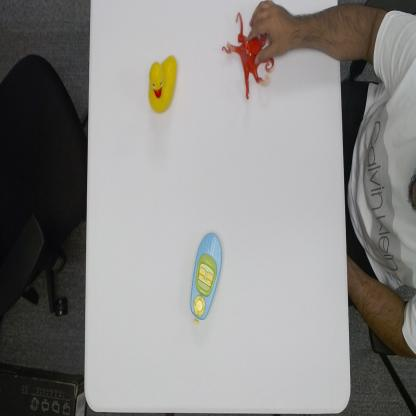Arm: (294, 0, 402, 67)
Boat: (189, 230, 223, 326)
Duck: (147, 52, 179, 116)
Hand: (248, 0, 295, 68)
Octopus: (220, 11, 275, 102)
